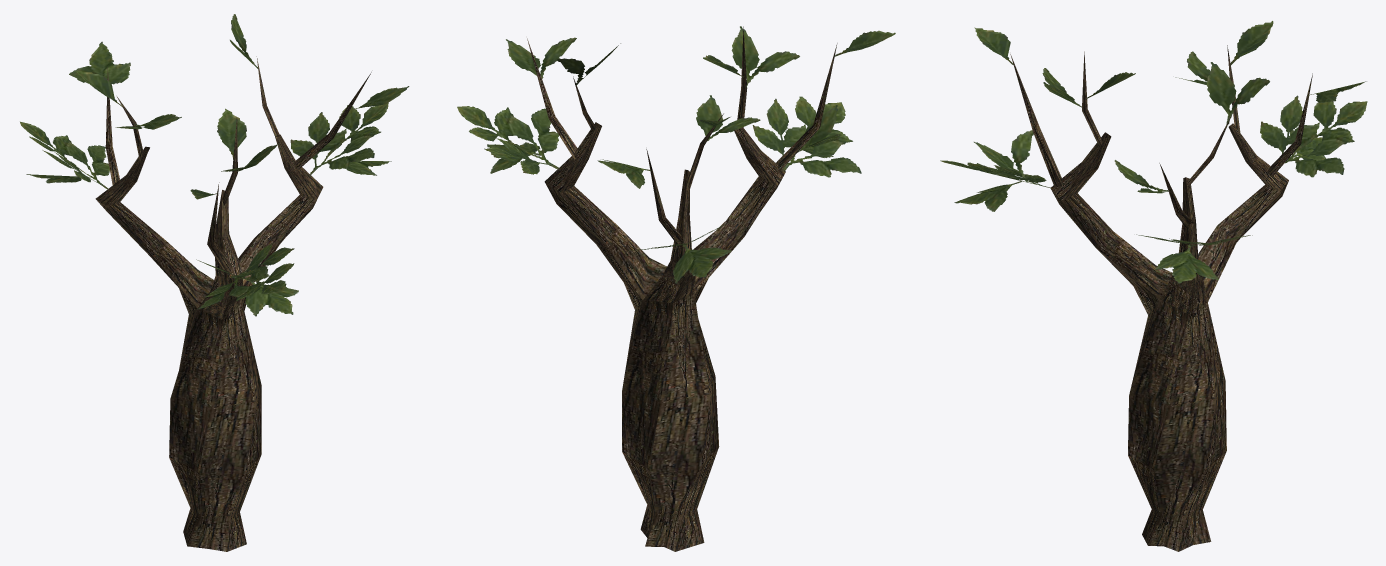
Rendered from tree.dae.
3 renders of one model, left to right at view 1: azimuth 30°, elevation 25°; view 2: azimuth 150°, elevation 25°; view 3: azimuth 270°, elevation 25°, orthographic. The views are drawn at different scales.
Visible parts, largest first — view 1: plump_tree_001; view 2: plump_tree_001; view 3: plump_tree_001.
Part boxes in pixels (x1=…): plump_tree_001: x1=20, y1=14, x2=409, y2=551; plump_tree_001: x1=457, y1=26, x2=895, y2=551; plump_tree_001: x1=940, y1=21, x2=1367, y2=551.
Size of the model in its own units: 1.88 by 2.18 by 2.78.
2 materials, 2 textured.
